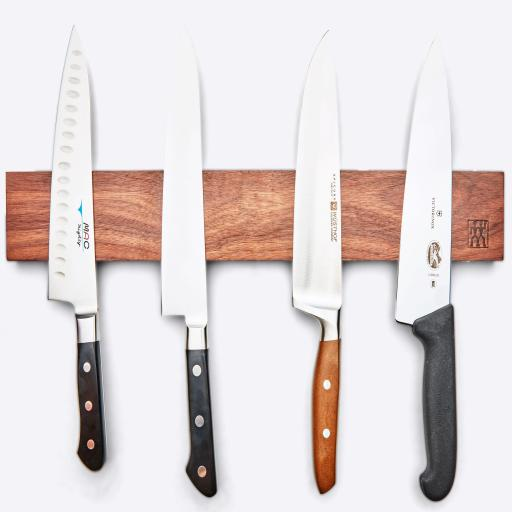knife: (164, 35, 227, 500)
